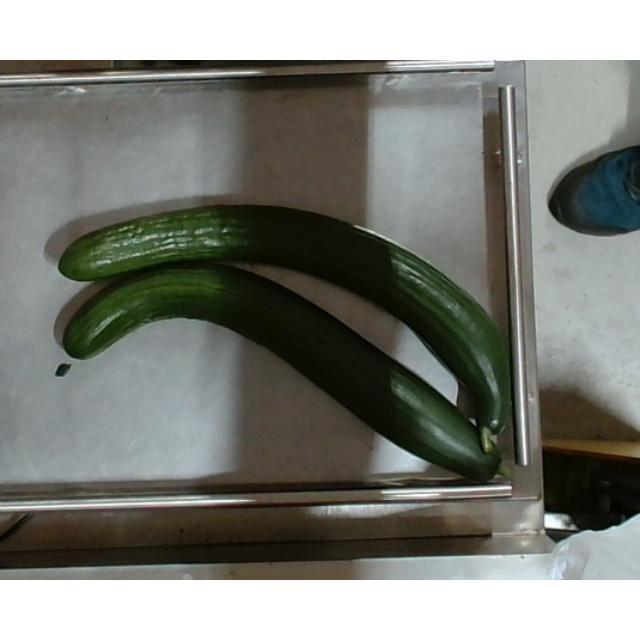cucumber: (57, 204, 513, 454), (62, 265, 506, 485)
